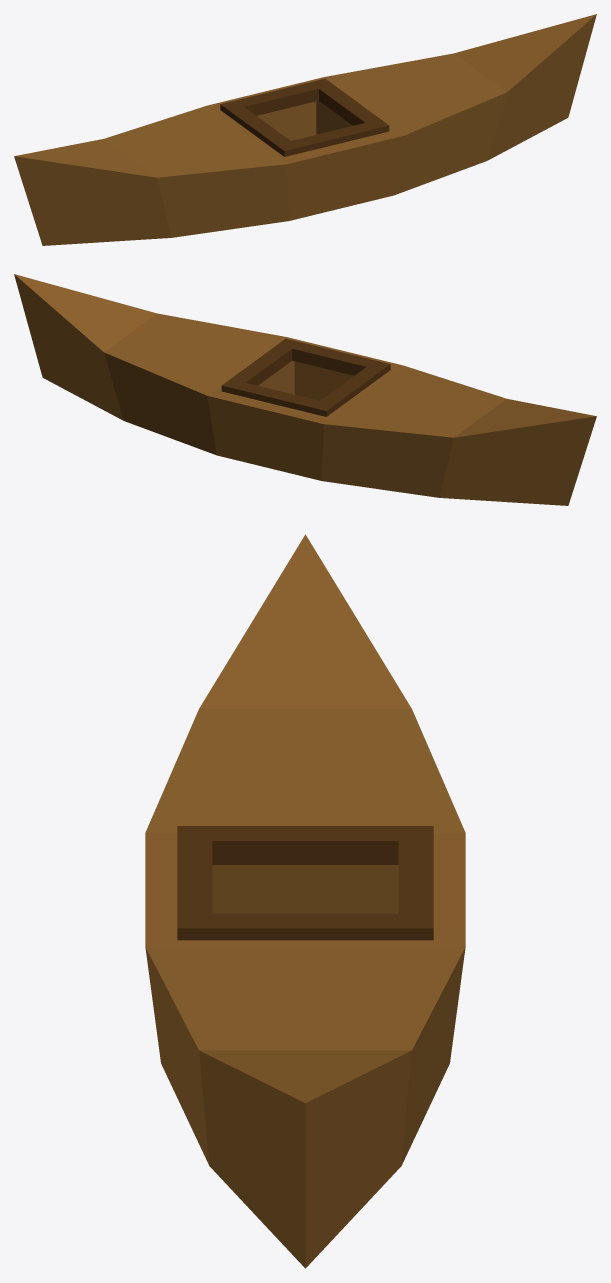
The model's file is WinterCanoe.fbx.
3 views of the same model, one above another, from view 1: azimuth 30°, elevation 25°; view 2: azimuth 150°, elevation 25°; view 3: azimuth 270°, elevation 25° (orthographic). The views are drawn at different scales.
Parts seen in each view (by area): view 1: WinterCanoe; view 2: WinterCanoe; view 3: WinterCanoe.
Part boxes in pixels (x1,y1,x2,y2): WinterCanoe: (14,14,596,245); WinterCanoe: (14,274,596,505); WinterCanoe: (145,534,465,1268).
Size of the model in its own units: 0.5613 by 0.089 by 0.1335.
